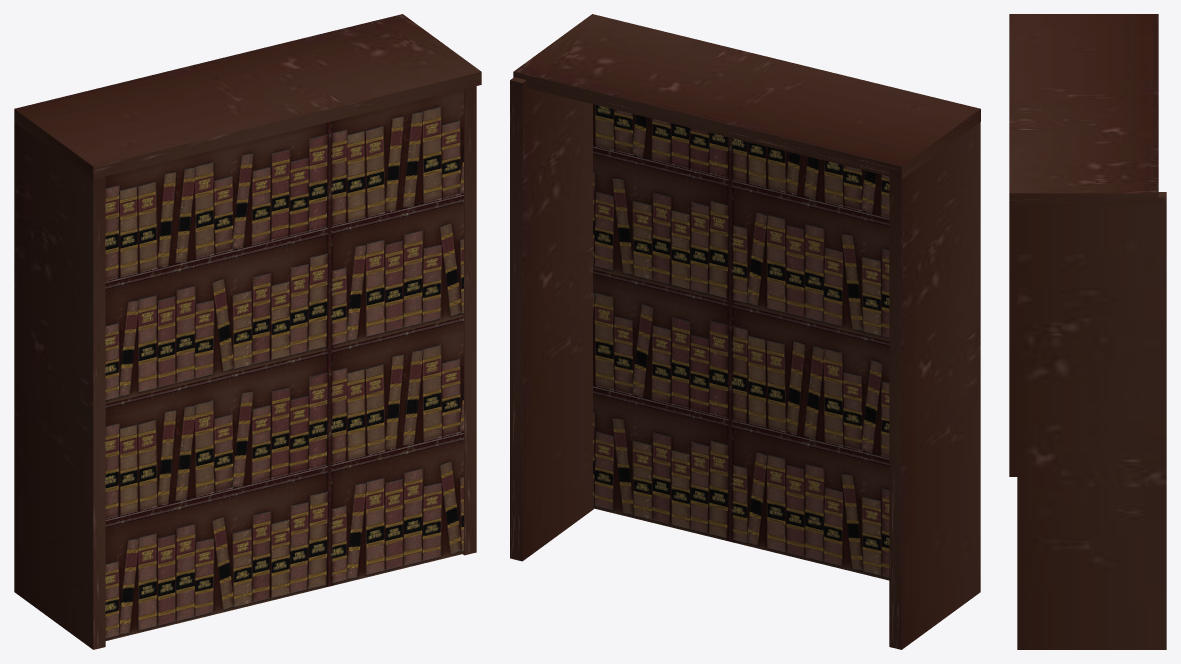
Rendered from Rak buku.fbx.
3 views of the same model, side by side, from view 1: azimuth 30°, elevation 25°; view 2: azimuth 150°, elevation 25°; view 3: azimuth 270°, elevation 25° (orthographic). The views are drawn at different scales.
Parts seen in each view (by area): view 1: rak buku; view 2: rak buku; view 3: rak buku.
Boxes of the visible parts, bbox=[...] form: rak buku: bbox=[14, 14, 481, 649]; rak buku: bbox=[510, 14, 980, 649]; rak buku: bbox=[1009, 14, 1166, 649].
Bounding box in the file's own units: 159 × 189 × 58.92.
